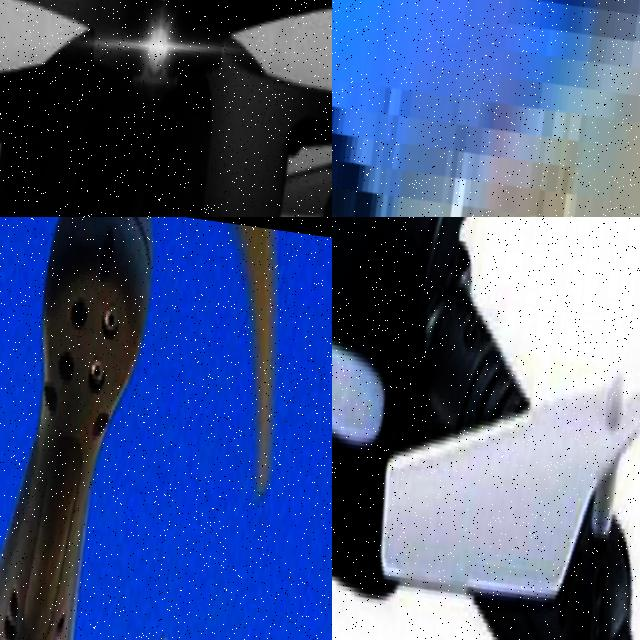drone: (0, 217, 332, 640), (332, 217, 640, 640), (0, 0, 332, 217), (332, 0, 640, 217)
